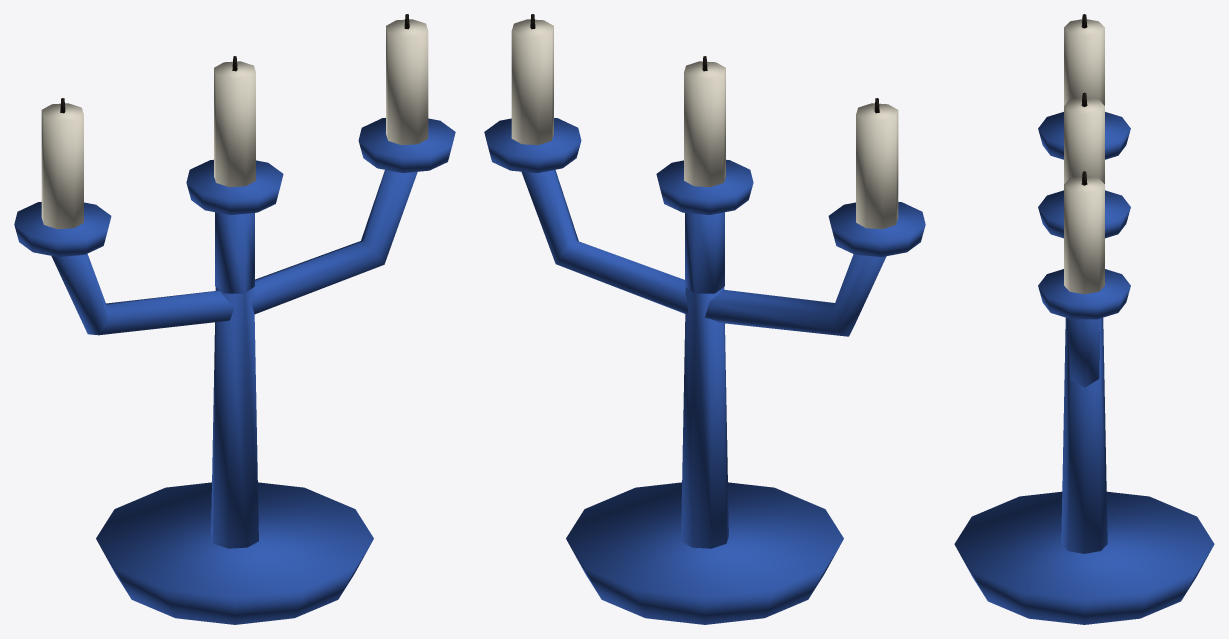
Rendered from mushroom_candelabra_v0.glb.
3 views of the same model, side by side, from view 1: azimuth 30°, elevation 25°; view 2: azimuth 150°, elevation 25°; view 3: azimuth 270°, elevation 25° (orthographic). The views are drawn at different scales.
Visible parts, largest first — view 1: mushroom_candelabra_v0; view 2: mushroom_candelabra_v0; view 3: mushroom_candelabra_v0.
Part boxes in pixels (x1,y1,x2,y2): mushroom_candelabra_v0: (14,14,455,624); mushroom_candelabra_v0: (484,14,925,624); mushroom_candelabra_v0: (954,14,1214,624).
Size of the model in its own units: 0.4951 by 0.575 by 0.28.
